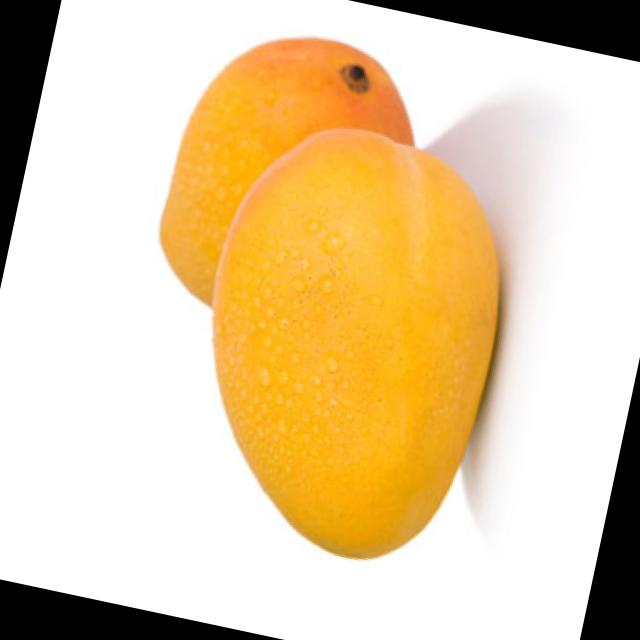mango: (162, 94, 552, 594), (132, 12, 420, 360)
